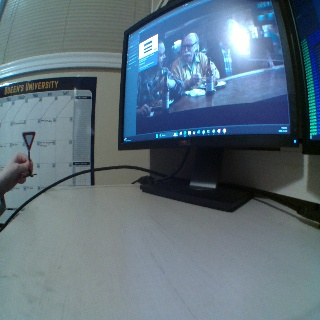sign_yield: (20, 131, 37, 149)
